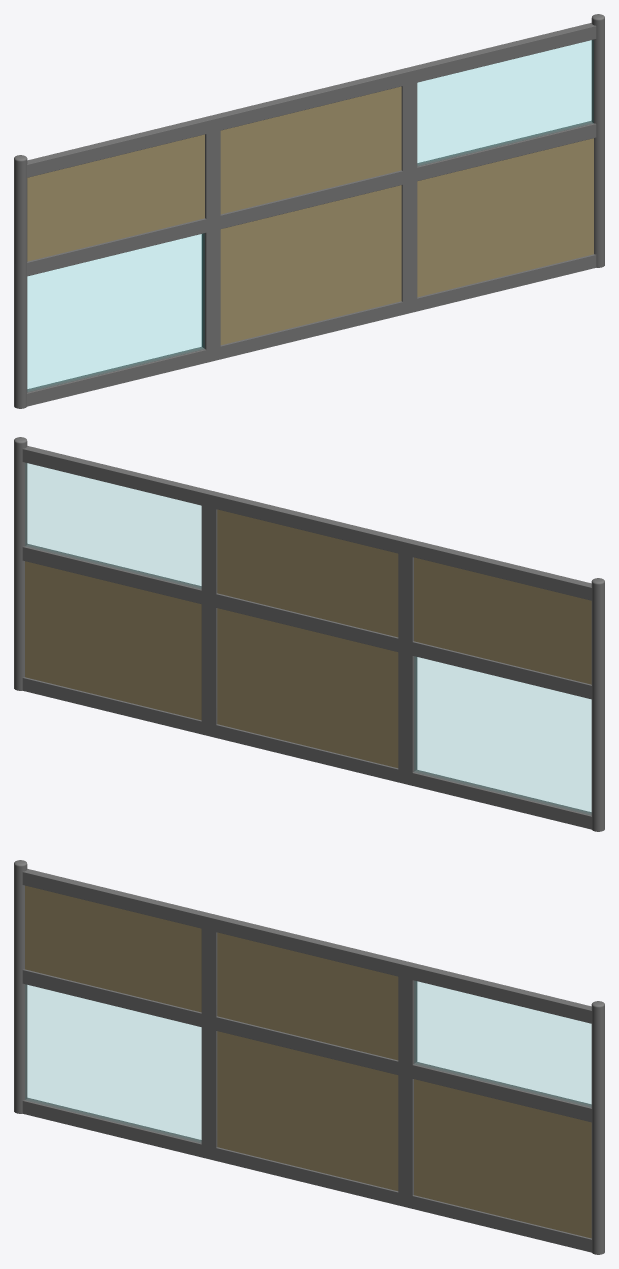
Rendered from Office_divider_wall_main.fbx.
3 views of the same model, one above another, from view 1: azimuth 30°, elevation 25°; view 2: azimuth 150°, elevation 25°; view 3: azimuth 330°, elevation 25° (orthographic).
Visible parts, largest first — view 1: Office_divider_wall_main_panels, Office_divider_wall_main_frame, Office_divider_wall_main_glass; view 2: Office_divider_wall_main_panels, Office_divider_wall_main_frame, Office_divider_wall_main_glass; view 3: Office_divider_wall_main_panels, Office_divider_wall_main_frame, Office_divider_wall_main_glass.
Boxes of the visible parts, box(x1,y1,x2,y2) form: Office_divider_wall_main_panels: box(27, 86, 593, 344); Office_divider_wall_main_frame: box(14, 14, 604, 408); Office_divider_wall_main_glass: box(27, 40, 593, 392); Office_divider_wall_main_panels: box(25, 509, 591, 767); Office_divider_wall_main_frame: box(14, 437, 604, 831); Office_divider_wall_main_glass: box(25, 463, 591, 815); Office_divider_wall_main_panels: box(25, 885, 591, 1238); Office_divider_wall_main_frame: box(14, 860, 604, 1254); Office_divider_wall_main_glass: box(25, 980, 591, 1143).
Size of the model in its own units: 3.06 by 1.24 by 0.06.
